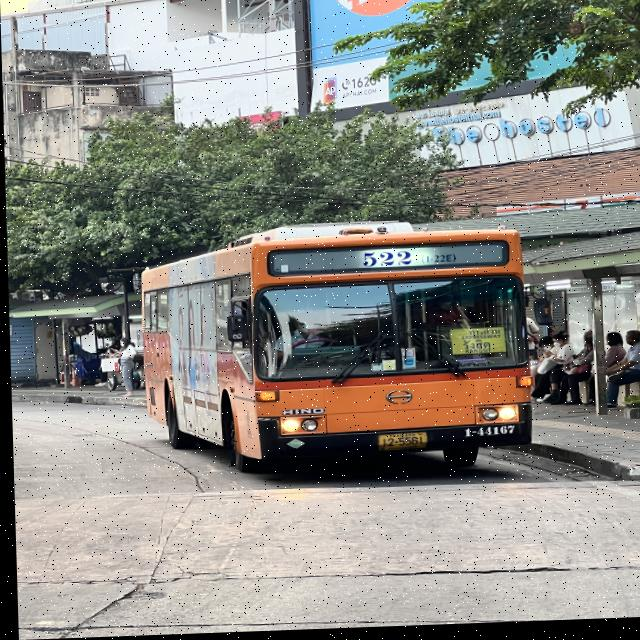BMTA-bus: (136, 227, 531, 475)
Bus Line Number: (349, 248, 457, 275)
Bus Side Number: (456, 427, 519, 442)
Destination Sign: (445, 332, 504, 358)
